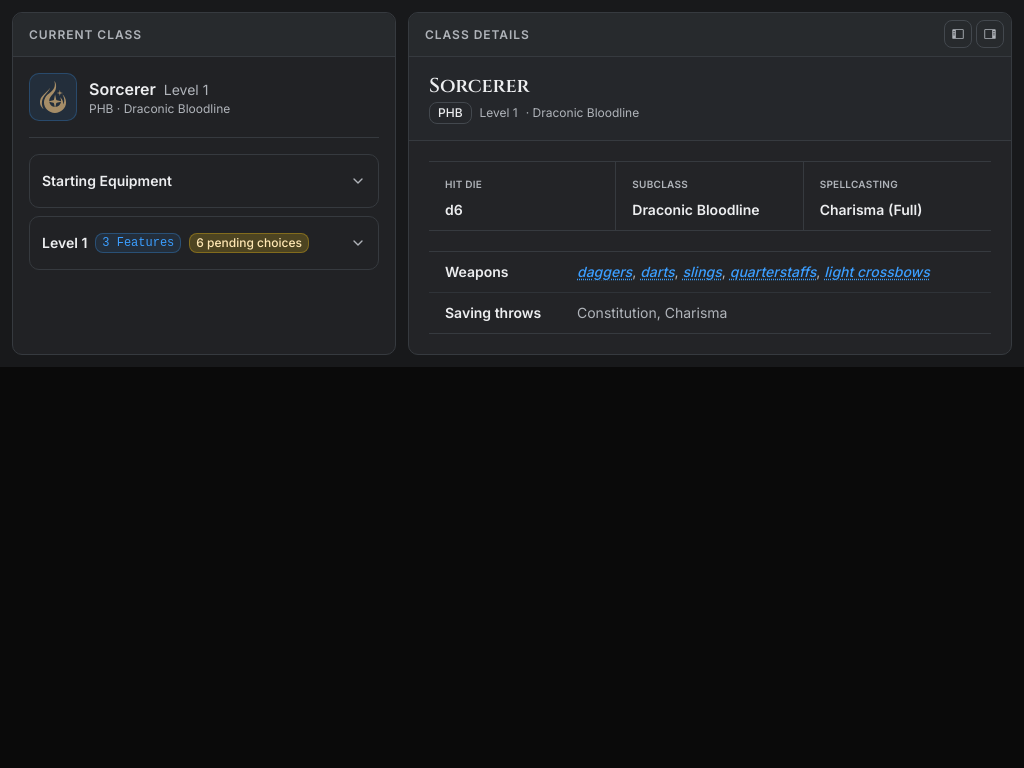
strictly reopened ancestry cancels a draft removal without changing saved state
The width and height of the screenshot is (1024, 768).
Click the button "Level 1 3 Features 6 pending choices": click(204, 243) [30, 217, 378, 269]
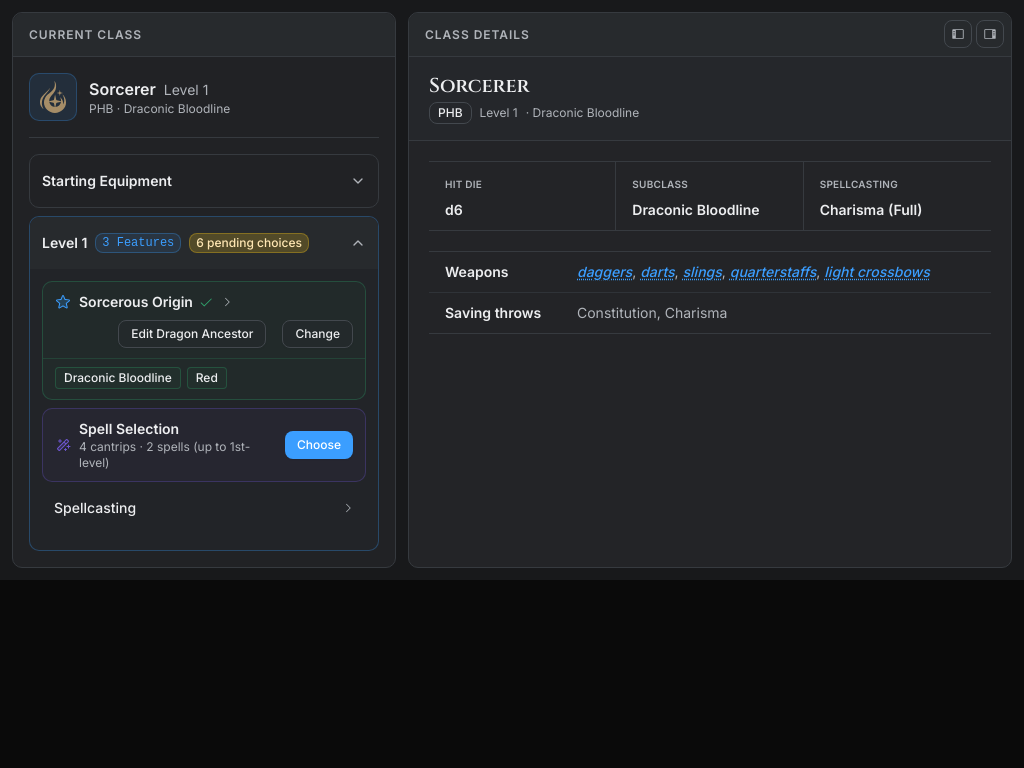
Click the button "Edit Dragon Ancestor": click(192, 334) [118, 320, 266, 348]
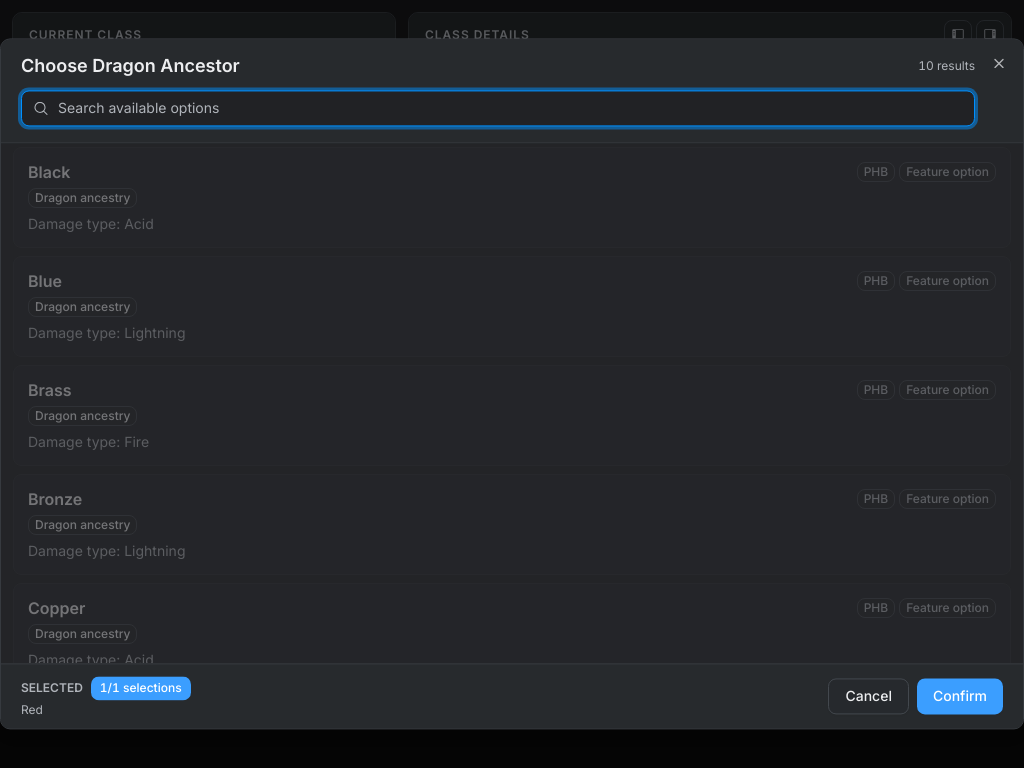
expect the dialog is shown: met
In the field with placeholder "Search available options": (498, 108) [21, 90, 975, 126], type "Red"
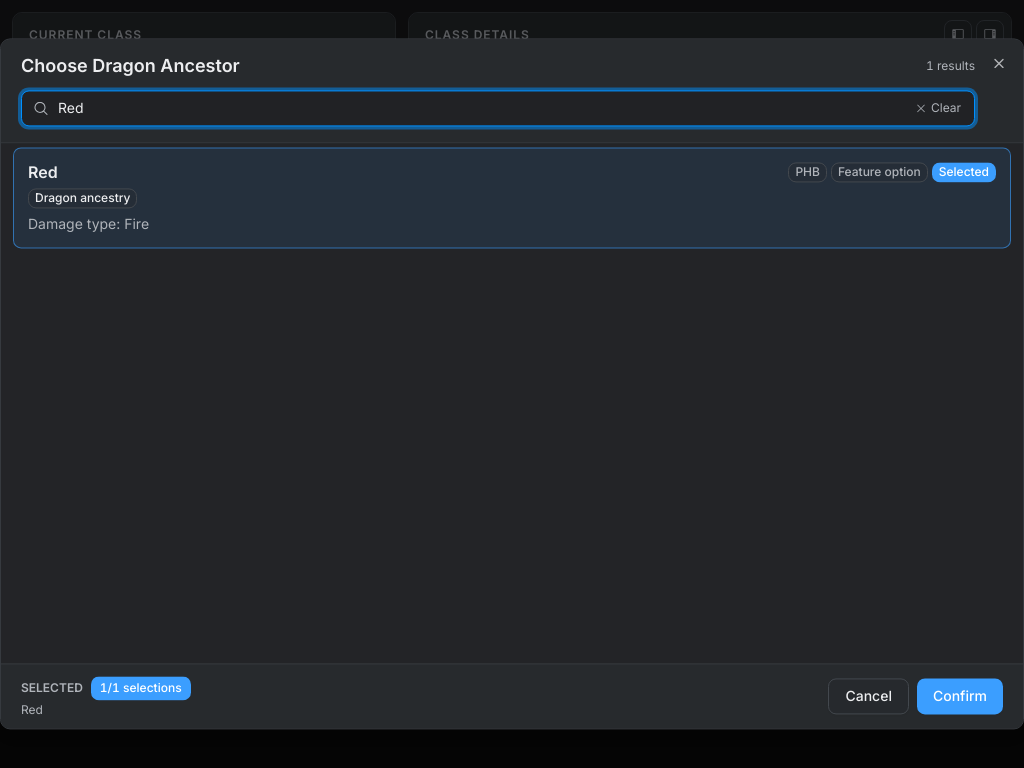
Click the button that starts with "Red": click(808, 172) [13, 147, 1011, 248]
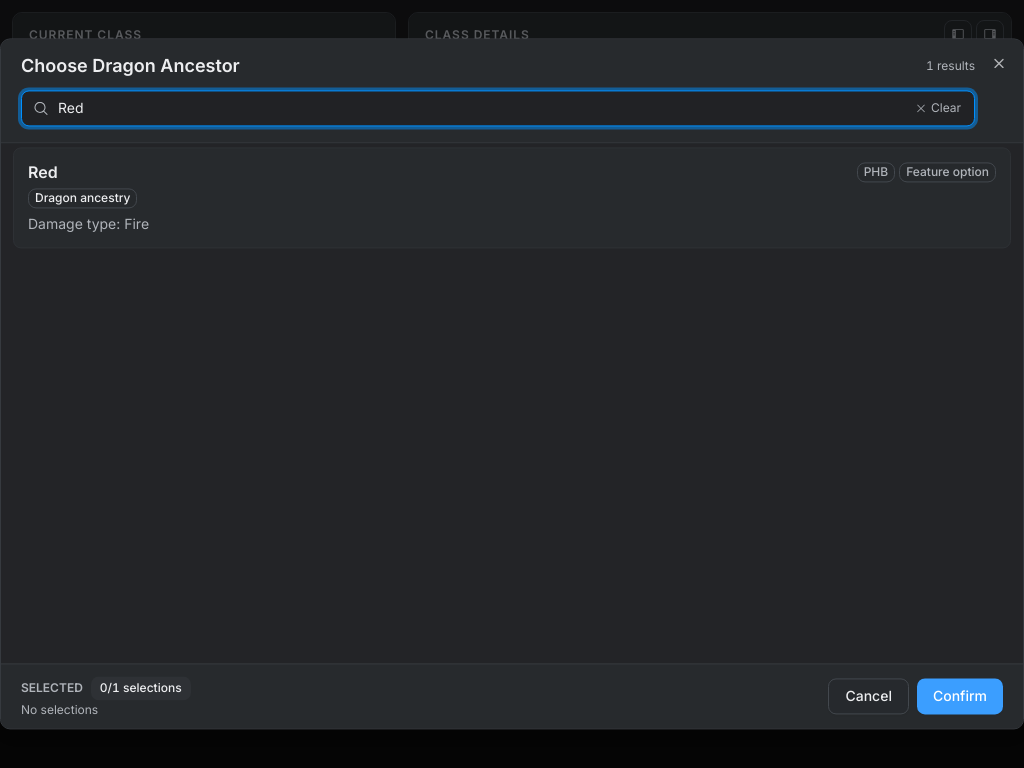
expect the text "0/1 selections" is shown: met, box [91, 677, 191, 701]
Click the button "Cancel": click(869, 697) [828, 679, 909, 715]
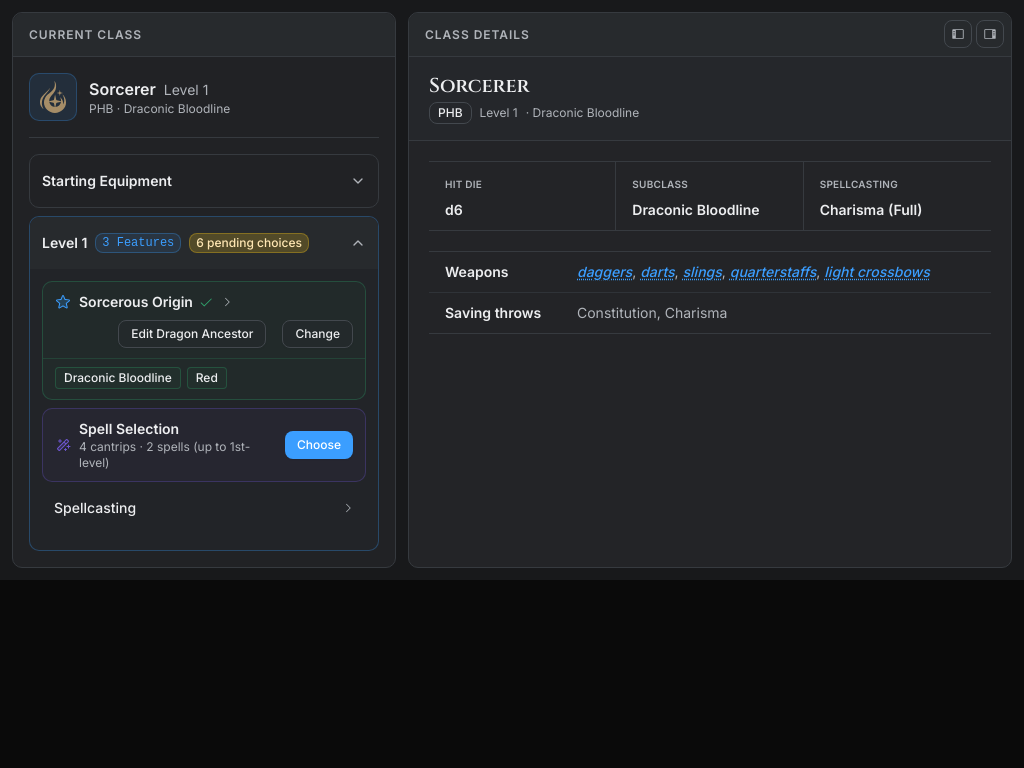
expect the dialog is gone: met
